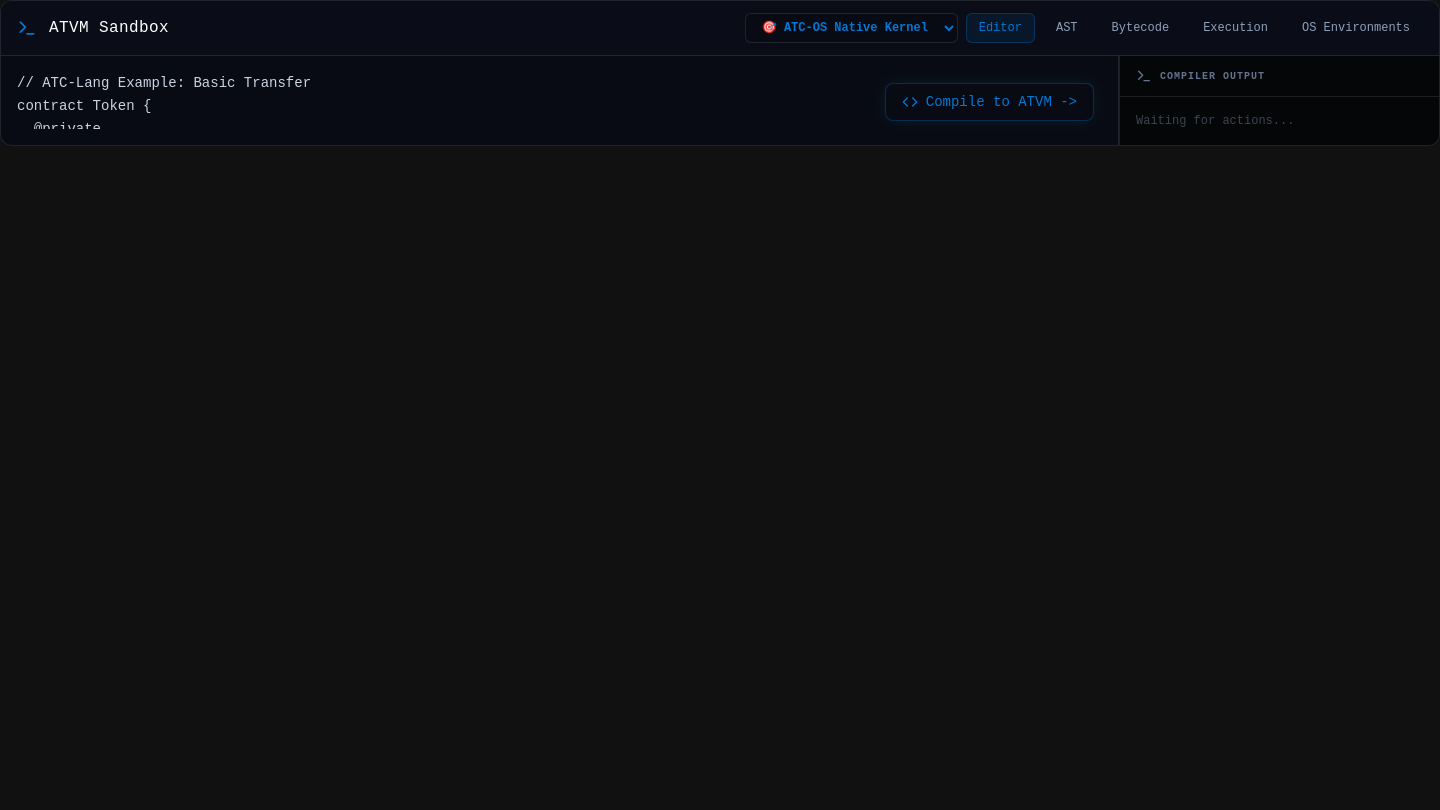
Test case: AtvmSandboxView compiler validation › runs the compiled bytecode and shows execution logs
# Compile first
Click the button "Compile to ATVM ->": (989,102) top-left (885, 83), bottom-right (1094, 121)
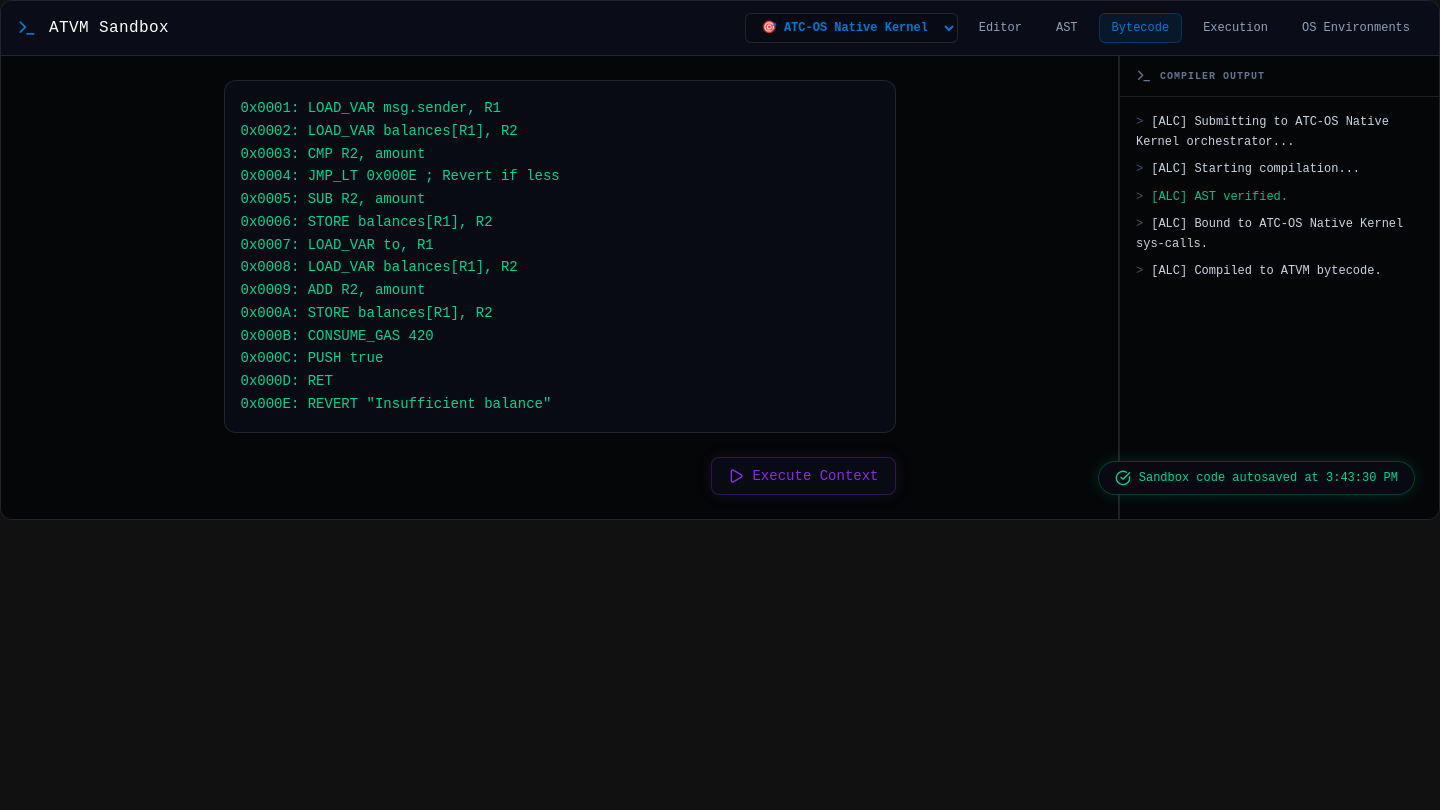
Result: the text ">[ALC] Compiled to ATVM bytecode." is shown at top-left (1136, 262), bottom-right (1423, 282)
# Click Run
Click the button "Execute Context": (804,476) top-left (712, 456), bottom-right (896, 494)
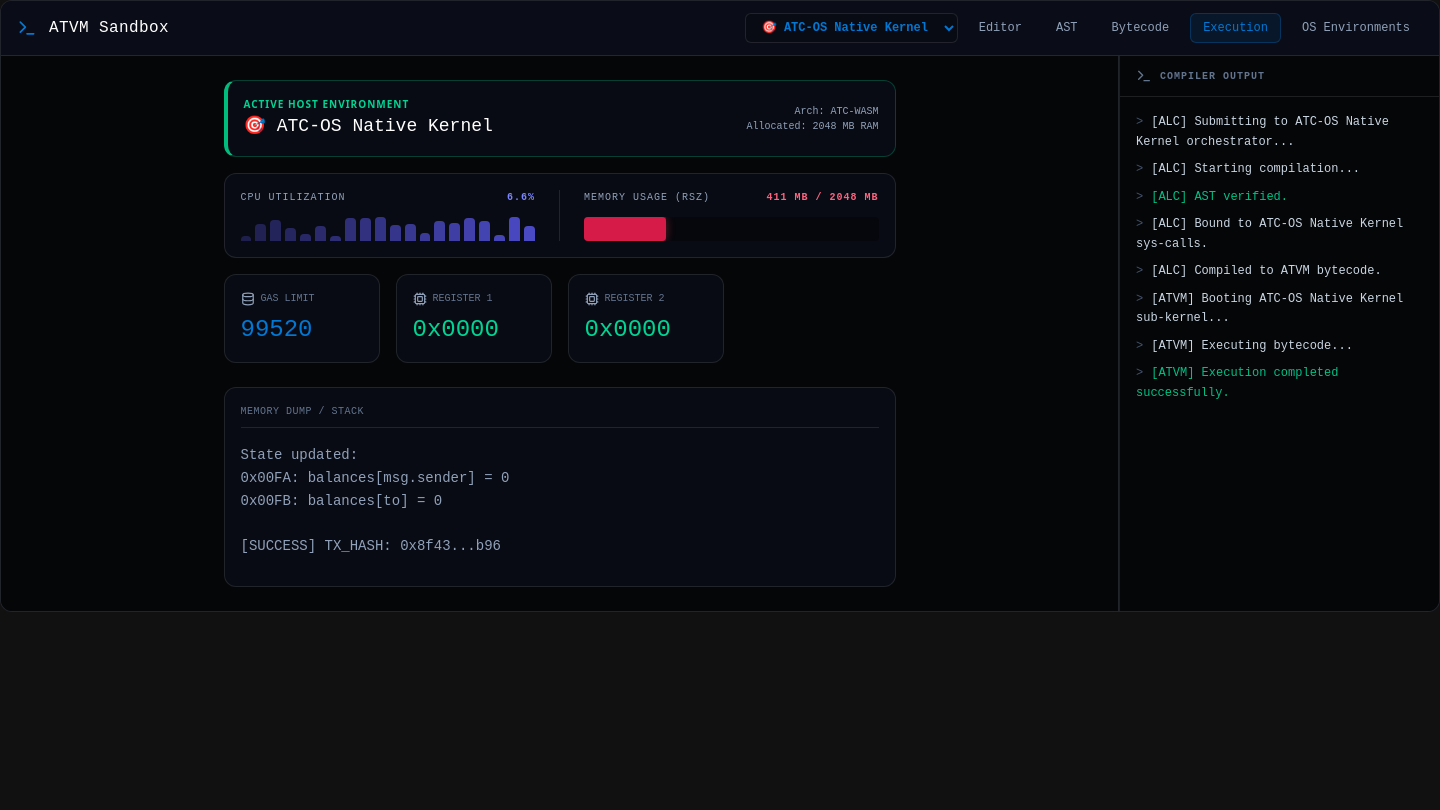
Result: the text ">[ATVM] Execution completed successfully." is shown at top-left (1136, 366), bottom-right (1338, 400)
